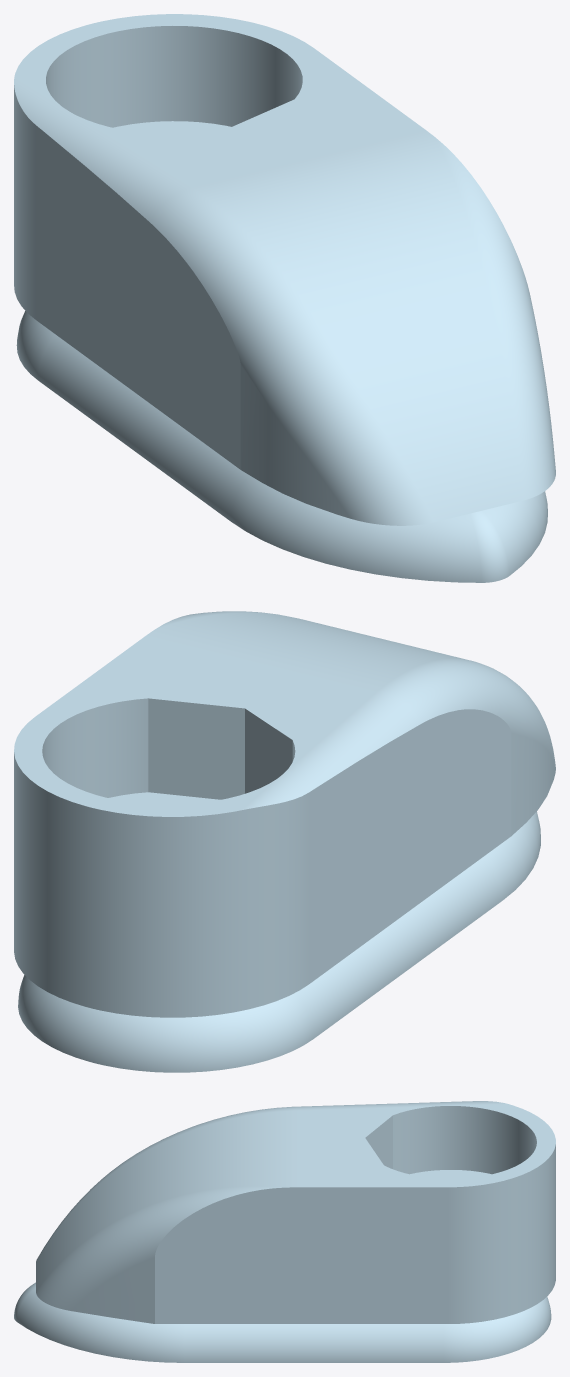
File: full_shoe.gltf
3 renders of one model, top to bottom at view 1: azimuth 30°, elevation 25°; view 2: azimuth 150°, elevation 25°; view 3: azimuth 270°, elevation 25°, orthographic. The views are drawn at different scales.
Parts seen in each view (by area): view 1: Part 1 (×2); view 2: Part 1 (×2); view 3: Part 1 (×2).
Part boxes in pixels (left/top/right/bottom): Part 1 (×2): left=14, top=14, right=555, bottom=582; Part 1 (×2): left=14, top=611, right=555, bottom=1072; Part 1 (×2): left=14, top=1101, right=555, bottom=1362.
Bounding box in the file's own units: 0.0501 × 0.045 × 0.1257.
